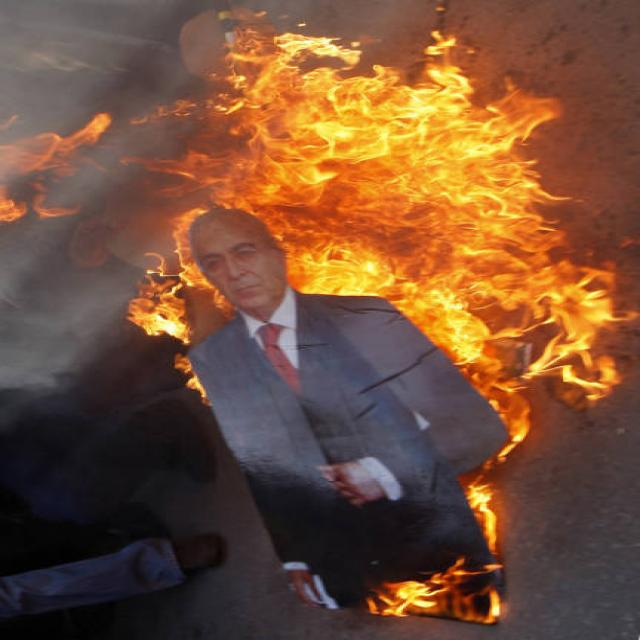fire: (194, 0, 640, 296), (387, 295, 640, 469), (127, 209, 232, 344), (0, 112, 110, 221), (371, 559, 501, 625), (115, 126, 193, 210), (463, 480, 499, 556), (127, 100, 195, 126), (178, 356, 211, 406)
